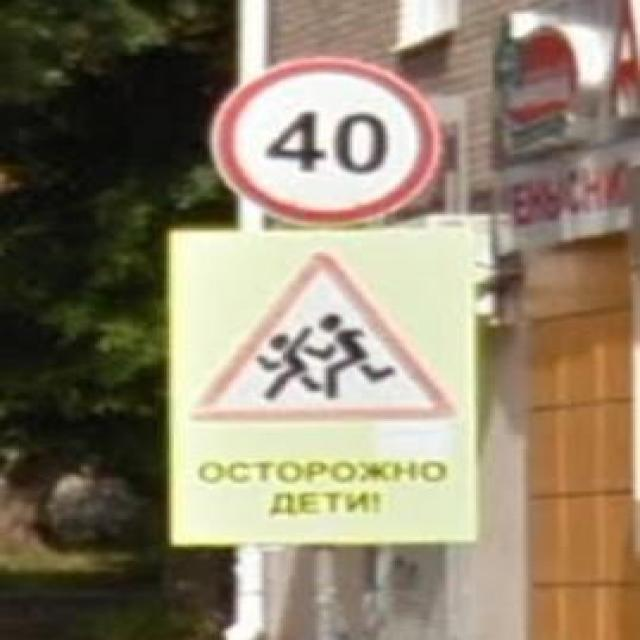Dzieci: (190, 250, 457, 430)
Ograniczenie predkosci do 40: (209, 55, 445, 226)
